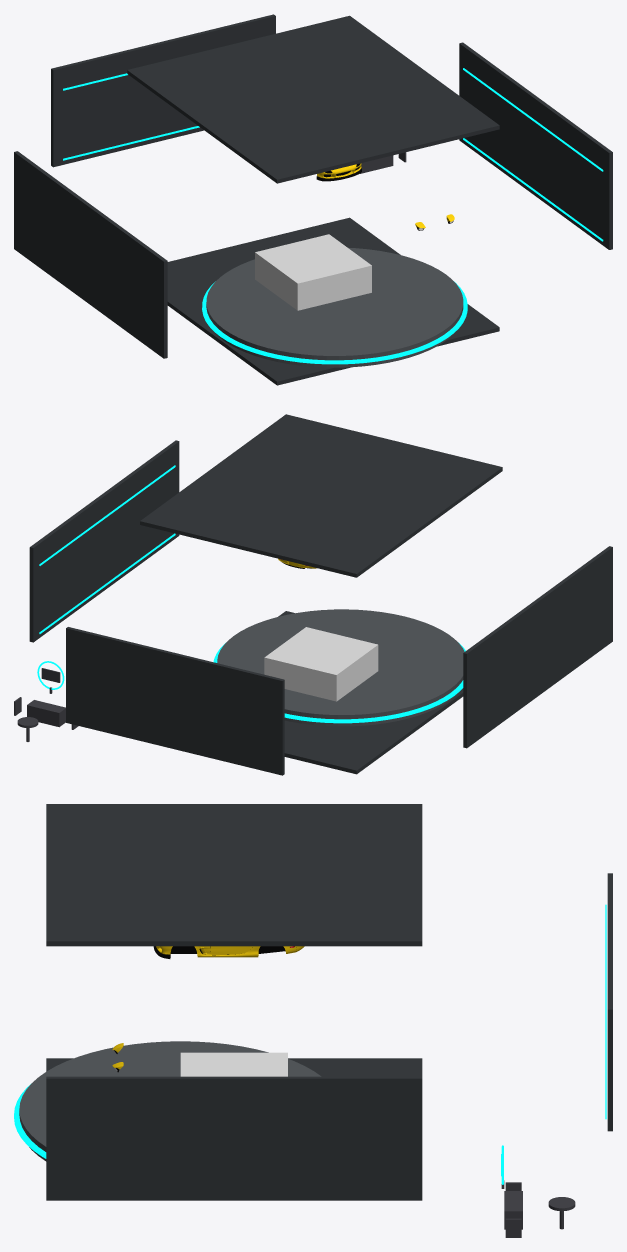
The model's file is garage-with-rx-7.glb.
3 views of the same model, one above another, from view 1: azimuth 30°, elevation 25°; view 2: azimuth 150°, elevation 25°; view 3: azimuth 270°, elevation 25° (orthographic). The views are drawn at different scales.
Parts seen in each view (by area): view 1: Ceiling, VehiclePlatform, WallLeft, WallRight, WallBack, Floor, Cube, PlatformRing; view 2: Ceiling, WallBack, VehiclePlatform, WallLeft, WallRight, Cube, Floor, PlatformRing, WorkDesk; view 3: Ceiling, WallRight, VehiclePlatform, Cube, Floor, WallBack, Plane_2.
Part boxes in pixels (x1,y1,x2,y2): Ceiling: [127, 15, 499, 183]; VehiclePlatform: [206, 247, 463, 367]; WallLeft: [14, 151, 167, 358]; WallRight: [459, 42, 612, 249]; WallBack: [51, 14, 275, 167]; Floor: [167, 217, 499, 385]; Cube: [255, 234, 371, 310]; PlatformRing: [202, 281, 467, 364]; Ceiling: [140, 414, 502, 577]; WallBack: [66, 627, 284, 775]; VehiclePlatform: [217, 609, 464, 726]; WallLeft: [463, 546, 612, 748]; WallRight: [29, 440, 179, 642]; Cube: [264, 627, 378, 701]; Floor: [278, 611, 463, 774]; PlatformRing: [213, 642, 465, 723]; WorkDesk: [27, 700, 65, 727]; Ceiling: [46, 805, 422, 946]; WallRight: [46, 1076, 422, 1200]; VehiclePlatform: [19, 1041, 321, 1161]; Cube: [180, 1052, 287, 1076]; Floor: [46, 1058, 422, 1076]; WallBack: [607, 873, 612, 1131]; Plane_2: [153, 946, 304, 958].
Bounding box in the file's own units: 12.1 × 6.15 × 11.15.
Materials: 21 (3 with a texture image).
